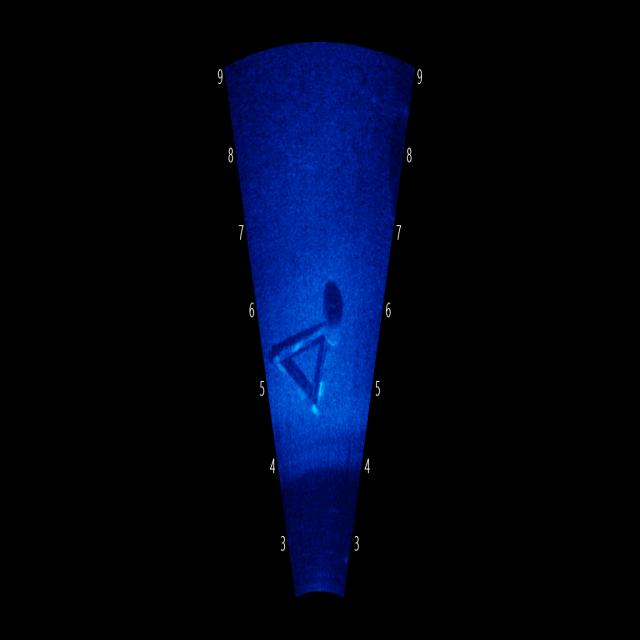triangle: (270, 310, 345, 424)
